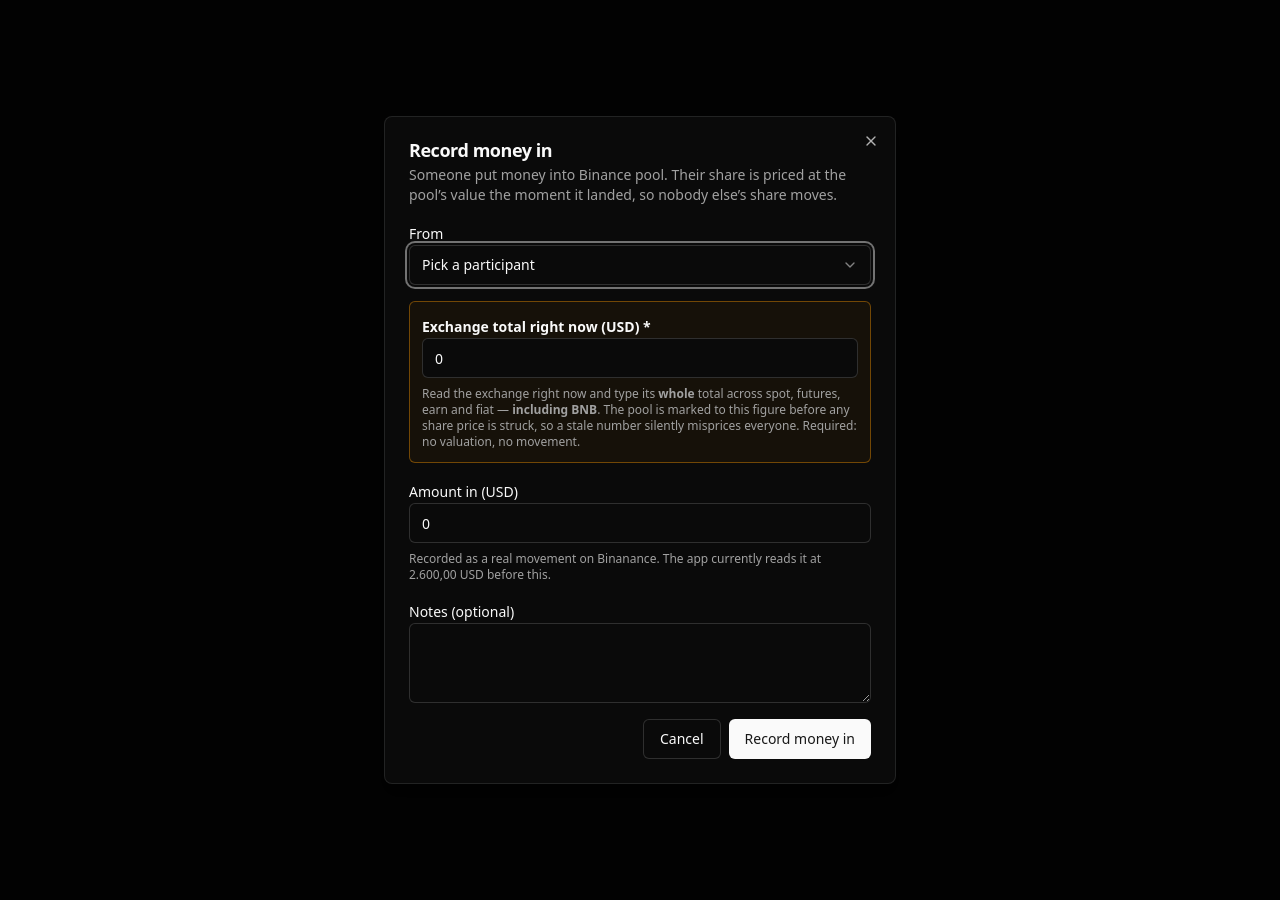
Test case: RecordSubscriptionDialog › surfaces a server rejection inline instead of silently closing
Click the dropdown with test id "subscription-participant-select": (478, 264) [409,245,871,285]
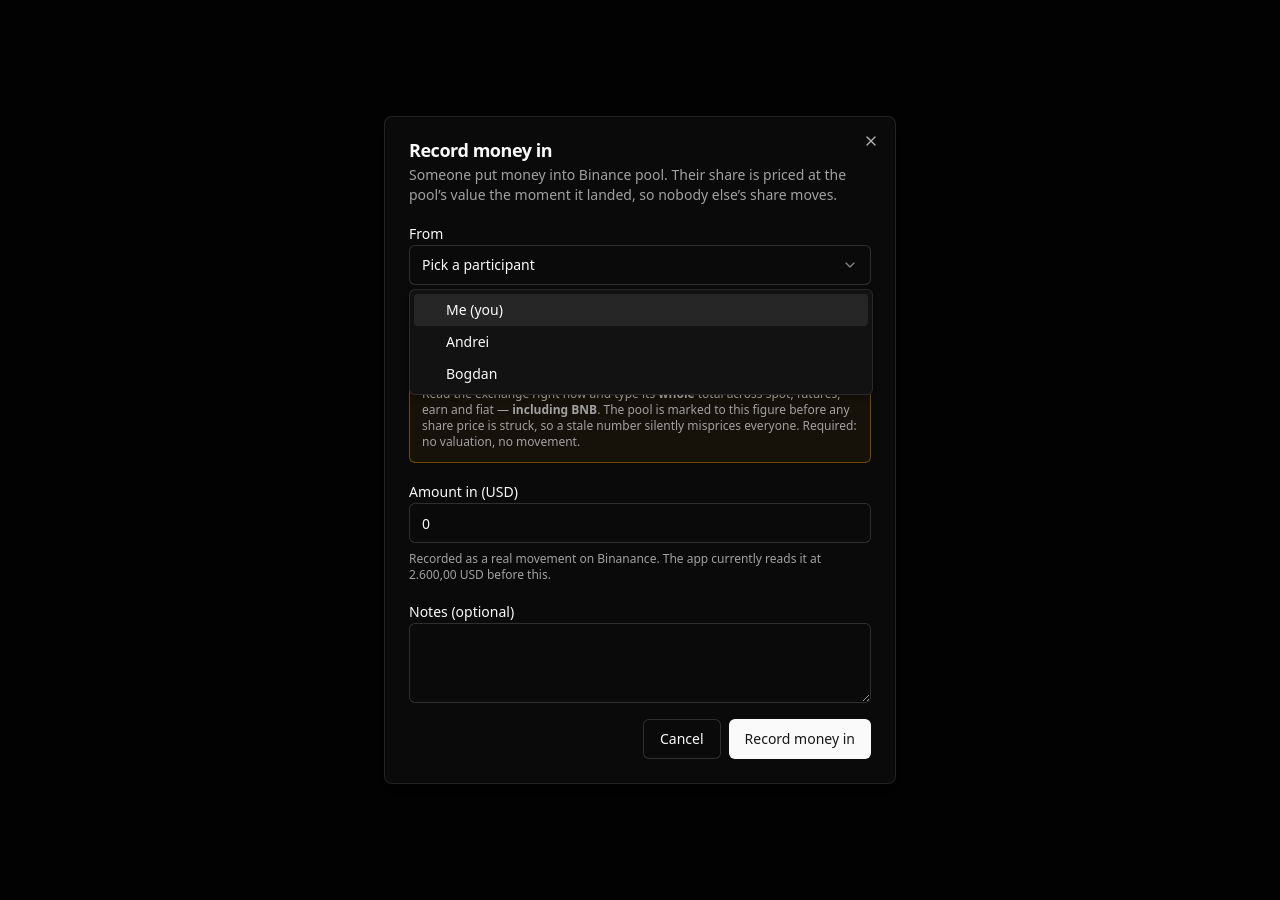
Click the option "Andrei": (468, 342) [446,332,489,351]
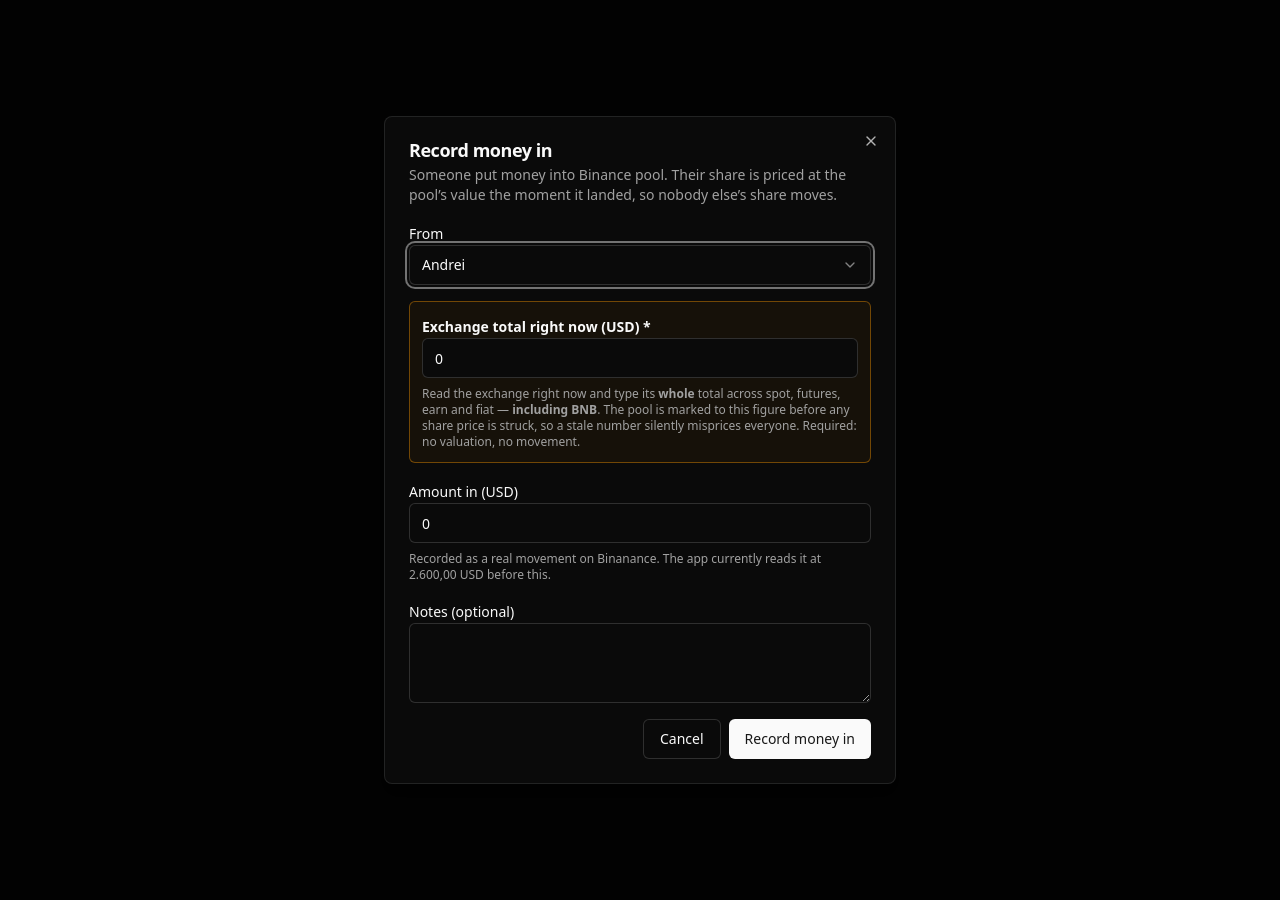
Replace the text in the number field with test id "subscription-pool-value-input" with "2500": (640, 358) [422,338,858,378]
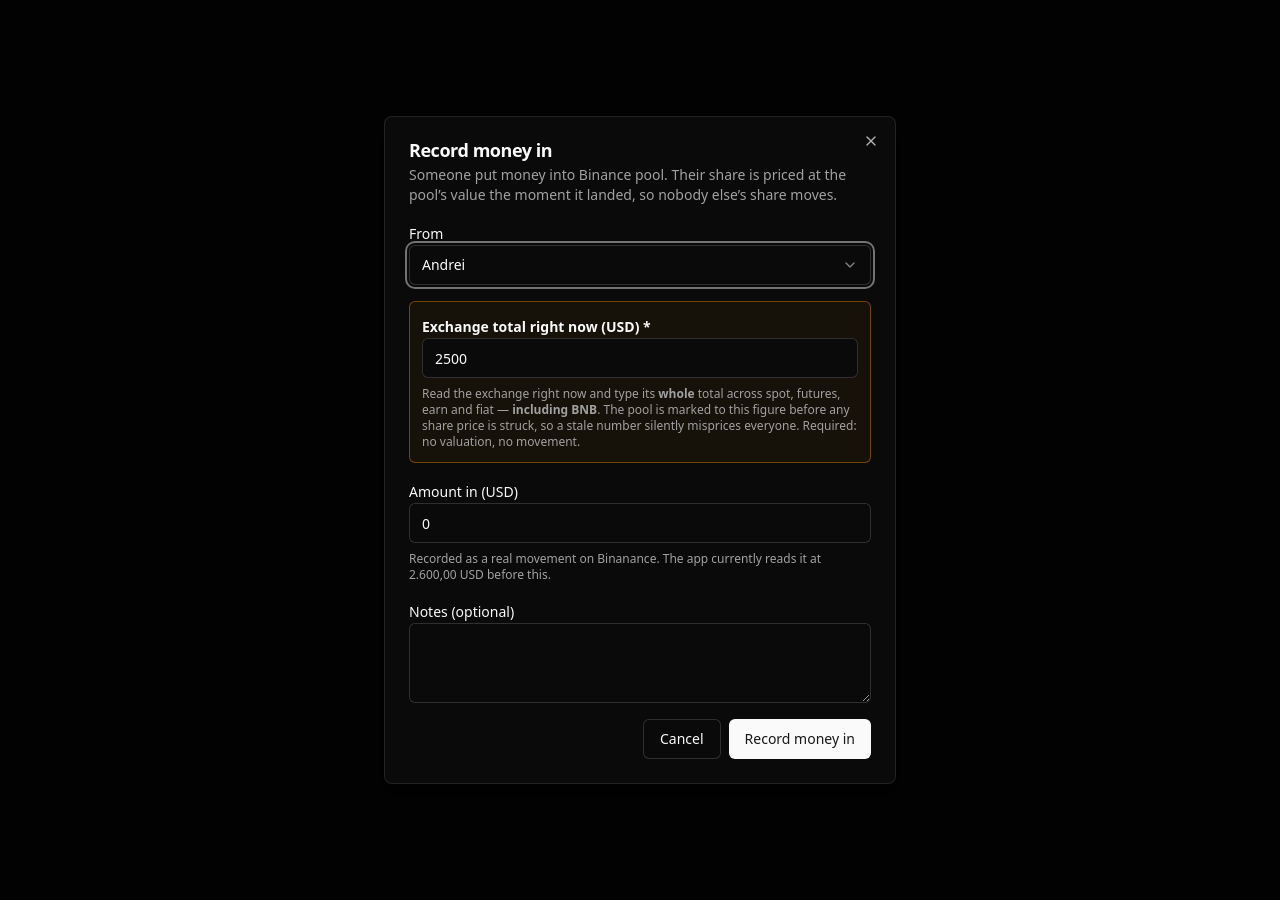
Replace the text in the number field with test id "subscription-cash-input" with "1000": (640, 523) [409,503,871,543]
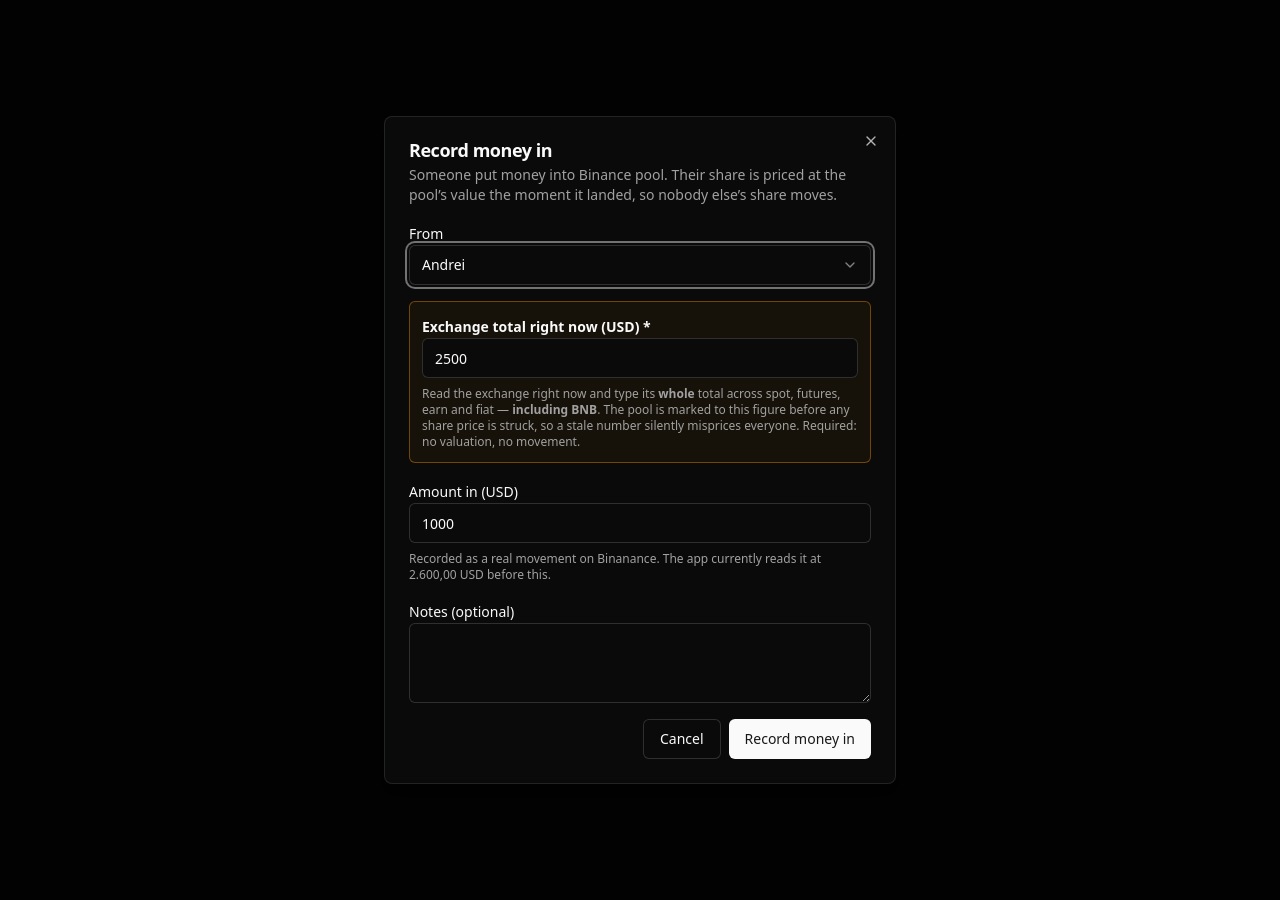
Click the button with test id "subscription-submit-button": (800, 739) [729,719,871,759]
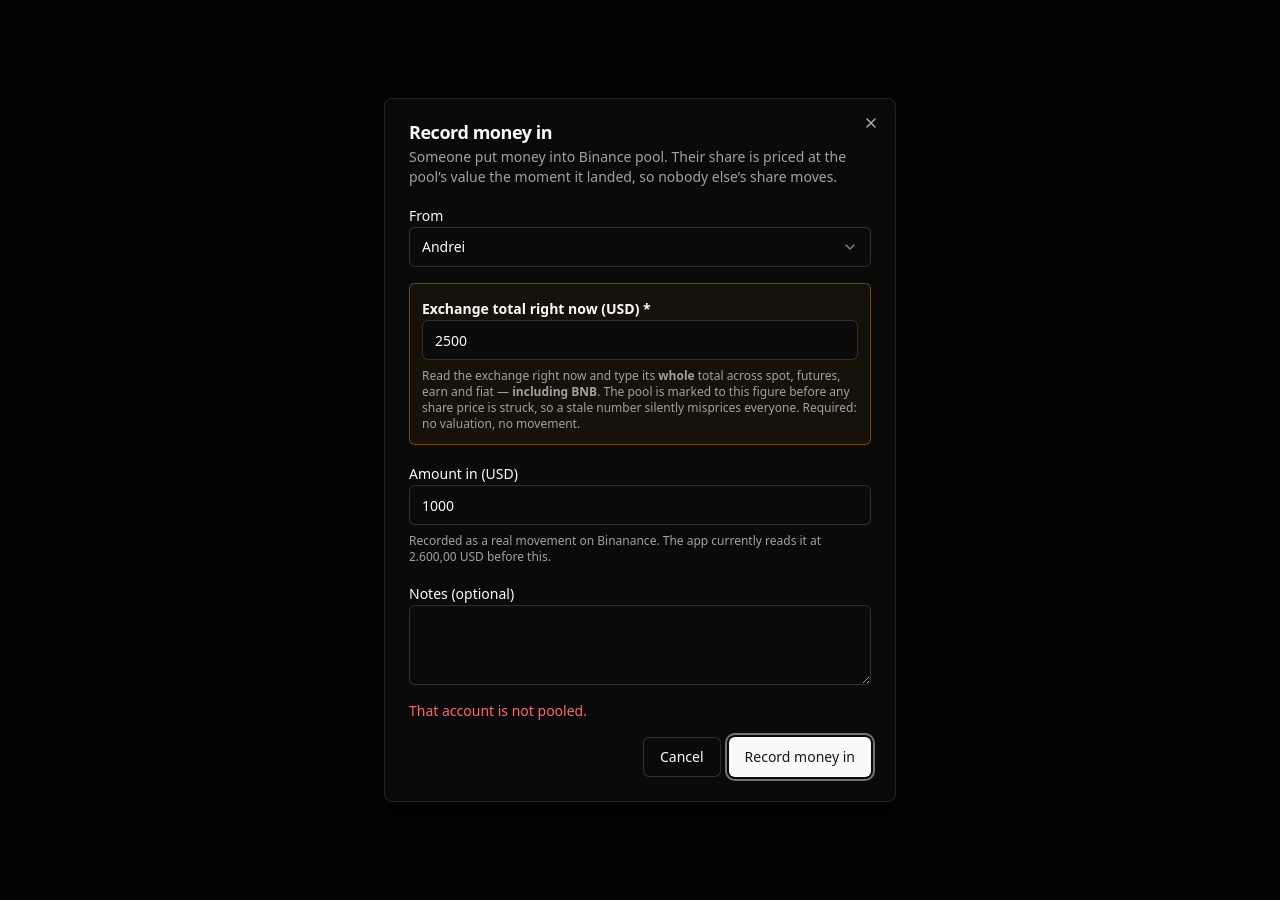
Result: the message with test id "record-subscription-error" reads "That account is not pooled." at [409,701,587,720]
